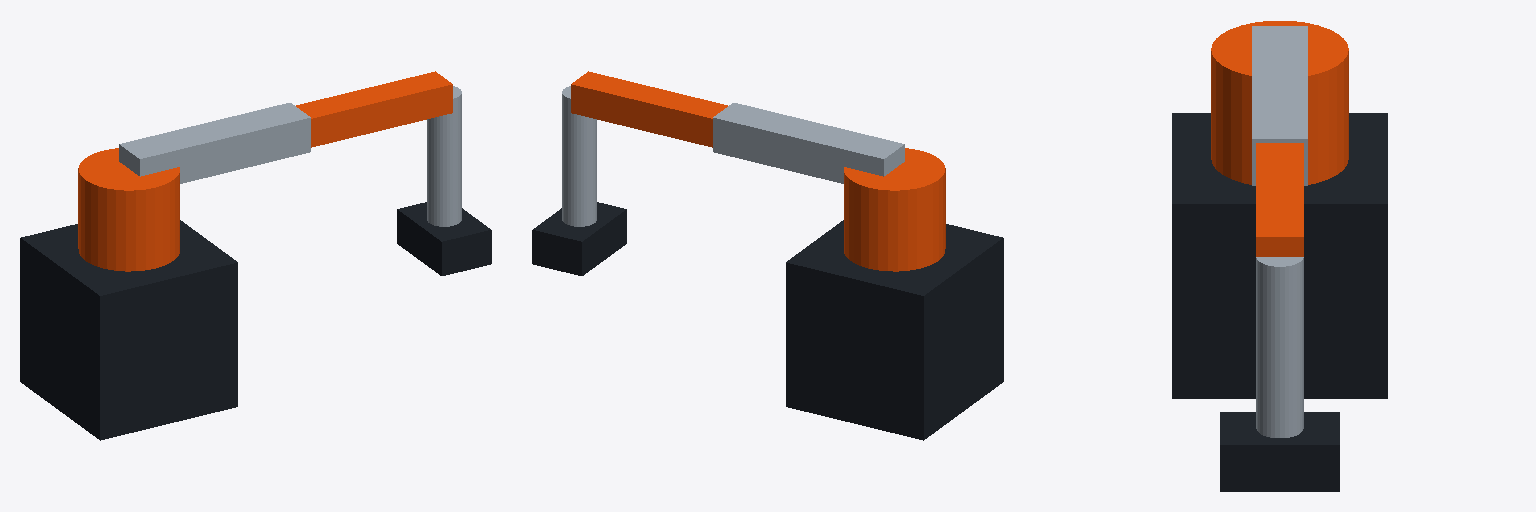
URDF robot description (scara_cell):
<?xml version="1.0"?>
<robot name="scara_cell" version="1.2">
  <material name="graphite">
    <color rgba="0.16 0.18 0.21 1"/>
  </material>
  <material name="safety_orange">
    <color rgba="0.96 0.38 0.08 1"/>
  </material>
  <material name="aluminium">
    <color rgba="0.68 0.72 0.76 1"/>
  </material>
  <link name="base_link">
    <inertial><origin xyz="0 0 0" rpy="0 0 0"/><mass value="24"/><inertia ixx="0.01" ixy="0" ixz="0" iyy="0.01" iyz="0" izz="0.01"/></inertial>
    <visual><origin xyz="0 0 0.25" rpy="0 0 0"/><geometry><mesh filename="meshes/pedestal.obj"/></geometry><material name="graphite"/></visual>
    <collision><origin xyz="0 0 0.25" rpy="0 0 0"/><geometry><box size="0.5 0.5 0.5"/></geometry></collision>
  </link>
  <link name="shoulder">
    <inertial><origin xyz="0 0 0" rpy="0 0 0"/><mass value="5"/><inertia ixx="0.01" ixy="0" ixz="0" iyy="0.01" iyz="0" izz="0.01"/></inertial>
    <visual><origin xyz="0 0 0.14" rpy="0 0 0"/><geometry><cylinder radius="0.16" length="0.28"/></geometry><material name="safety_orange"/></visual>
    <collision><origin xyz="0 0 0.14" rpy="0 0 0"/><geometry><cylinder radius="0.16" length="0.28"/></geometry></collision>
  </link>
  <link name="upper_arm">
    <inertial><origin xyz="0 0 0" rpy="0 0 0"/><mass value="3.1"/><inertia ixx="0.01" ixy="0" ixz="0" iyy="0.01" iyz="0" izz="0.01"/></inertial>
    <visual><origin xyz="0.31 0 0" rpy="0 0 0"/><geometry><box size="0.62 0.13 0.12"/></geometry><material name="aluminium"/></visual>
    <collision><origin xyz="0.31 0 0" rpy="0 0 0"/><geometry><box size="0.62 0.13 0.12"/></geometry></collision>
  </link>
  <link name="forearm">
    <inertial><origin xyz="0 0 0" rpy="0 0 0"/><mass value="2.2"/><inertia ixx="0.01" ixy="0" ixz="0" iyy="0.01" iyz="0" izz="0.01"/></inertial>
    <visual><origin xyz="0.26 0 0" rpy="0 0 0"/><geometry><box size="0.52 0.11 0.1"/></geometry><material name="safety_orange"/></visual>
    <collision><origin xyz="0.26 0 0" rpy="0 0 0"/><geometry><box size="0.52 0.11 0.1"/></geometry></collision>
  </link>
  <link name="vertical_slide">
    <inertial><origin xyz="0 0 0" rpy="0 0 0"/><mass value="1.4"/><inertia ixx="0.01" ixy="0" ixz="0" iyy="0.01" iyz="0" izz="0.01"/></inertial>
    <visual><origin xyz="0 0 -0.25" rpy="0 0 0"/><geometry><cylinder radius="0.055" length="0.5"/></geometry><material name="aluminium"/></visual>
    <collision><origin xyz="0 0 -0.25" rpy="0 0 0"/><geometry><cylinder radius="0.055" length="0.5"/></geometry></collision>
  </link>
  <link name="gripper">
    <inertial><origin xyz="0 0 0" rpy="0 0 0"/><mass value="0.8"/><inertia ixx="0.01" ixy="0" ixz="0" iyy="0.01" iyz="0" izz="0.01"/></inertial>
    <visual><origin xyz="0 0 0" rpy="0 0 0"/><geometry><mesh filename="meshes/gripper.stl"/></geometry><material name="graphite"/></visual>
    <collision><origin xyz="0 0 0" rpy="0 0 0"/><geometry><box size="0.18 0.28 0.12"/></geometry></collision>
  </link>
  <joint name="shoulder_joint" type="revolute"><parent link="base_link"/><child link="shoulder"/><origin xyz="0 0 0.5" rpy="0 0 0"/><axis xyz="0 0 1"/><limit lower="-1.5708" upper="1.5708" effort="30" velocity="2"/></joint>
  <joint name="elbow_joint" type="revolute"><parent link="shoulder"/><child link="upper_arm"/><origin xyz="0 0 0.28" rpy="0 0 0"/><axis xyz="0 0 1"/><limit lower="-1.5708" upper="1.5708" effort="30" velocity="2"/></joint>
  <joint name="forearm_joint" type="fixed"><parent link="upper_arm"/><child link="forearm"/><origin xyz="0.62 0 0" rpy="0 0 0"/></joint>
  <joint name="slide_joint" type="prismatic"><parent link="forearm"/><child link="vertical_slide"/><origin xyz="0.52 0 0" rpy="0 0 0"/><axis xyz="0 0 -1"/><limit lower="0" upper="0.45" effort="80" velocity="0.6"/></joint>
  <joint name="tool_joint" type="fixed"><parent link="vertical_slide"/><child link="gripper"/><origin xyz="0 0 -0.5" rpy="0 0 0"/></joint>
</robot>

--- Render facts (derived) ---
The picture shows the robot from 3 angles, left to right: view 1: azimuth 30°, elevation 25°; view 2: azimuth 150°, elevation 25°; view 3: azimuth 270°, elevation 25°; orthographic projection.
Model scara_cell with 6 links and 5 joints (2 revolute, 1 prismatic, 2 fixed), rooted at base_link, posed every joint at zero.
Visible links, largest first — view 1: base_link, shoulder, upper_arm, forearm, gripper, vertical_slide; view 2: base_link, shoulder, upper_arm, forearm, gripper, vertical_slide; view 3: base_link, shoulder, vertical_slide, gripper, upper_arm, forearm.
Boxes of the visible links, x1,y1,x2,y2 form: base_link: (20, 220, 237, 440); shoulder: (78, 148, 179, 271); upper_arm: (119, 103, 310, 183); forearm: (296, 71, 452, 147); gripper: (397, 202, 491, 275); vertical_slide: (427, 86, 461, 226); base_link: (786, 220, 1003, 440); shoulder: (844, 148, 945, 271); upper_arm: (713, 103, 904, 183); forearm: (571, 71, 727, 147); gripper: (532, 202, 626, 275); vertical_slide: (562, 86, 596, 226); base_link: (1172, 113, 1387, 398); shoulder: (1211, 21, 1348, 184); vertical_slide: (1256, 257, 1303, 437); gripper: (1220, 412, 1339, 491); upper_arm: (1252, 26, 1307, 185); forearm: (1256, 143, 1303, 256).
Size in the robot's own frame: 1.48 by 0.5 by 0.84 metres.
Meshes: 2 distinct files referenced, 2 mesh visuals loaded (1 ASCII STL, 1 OBJ).
